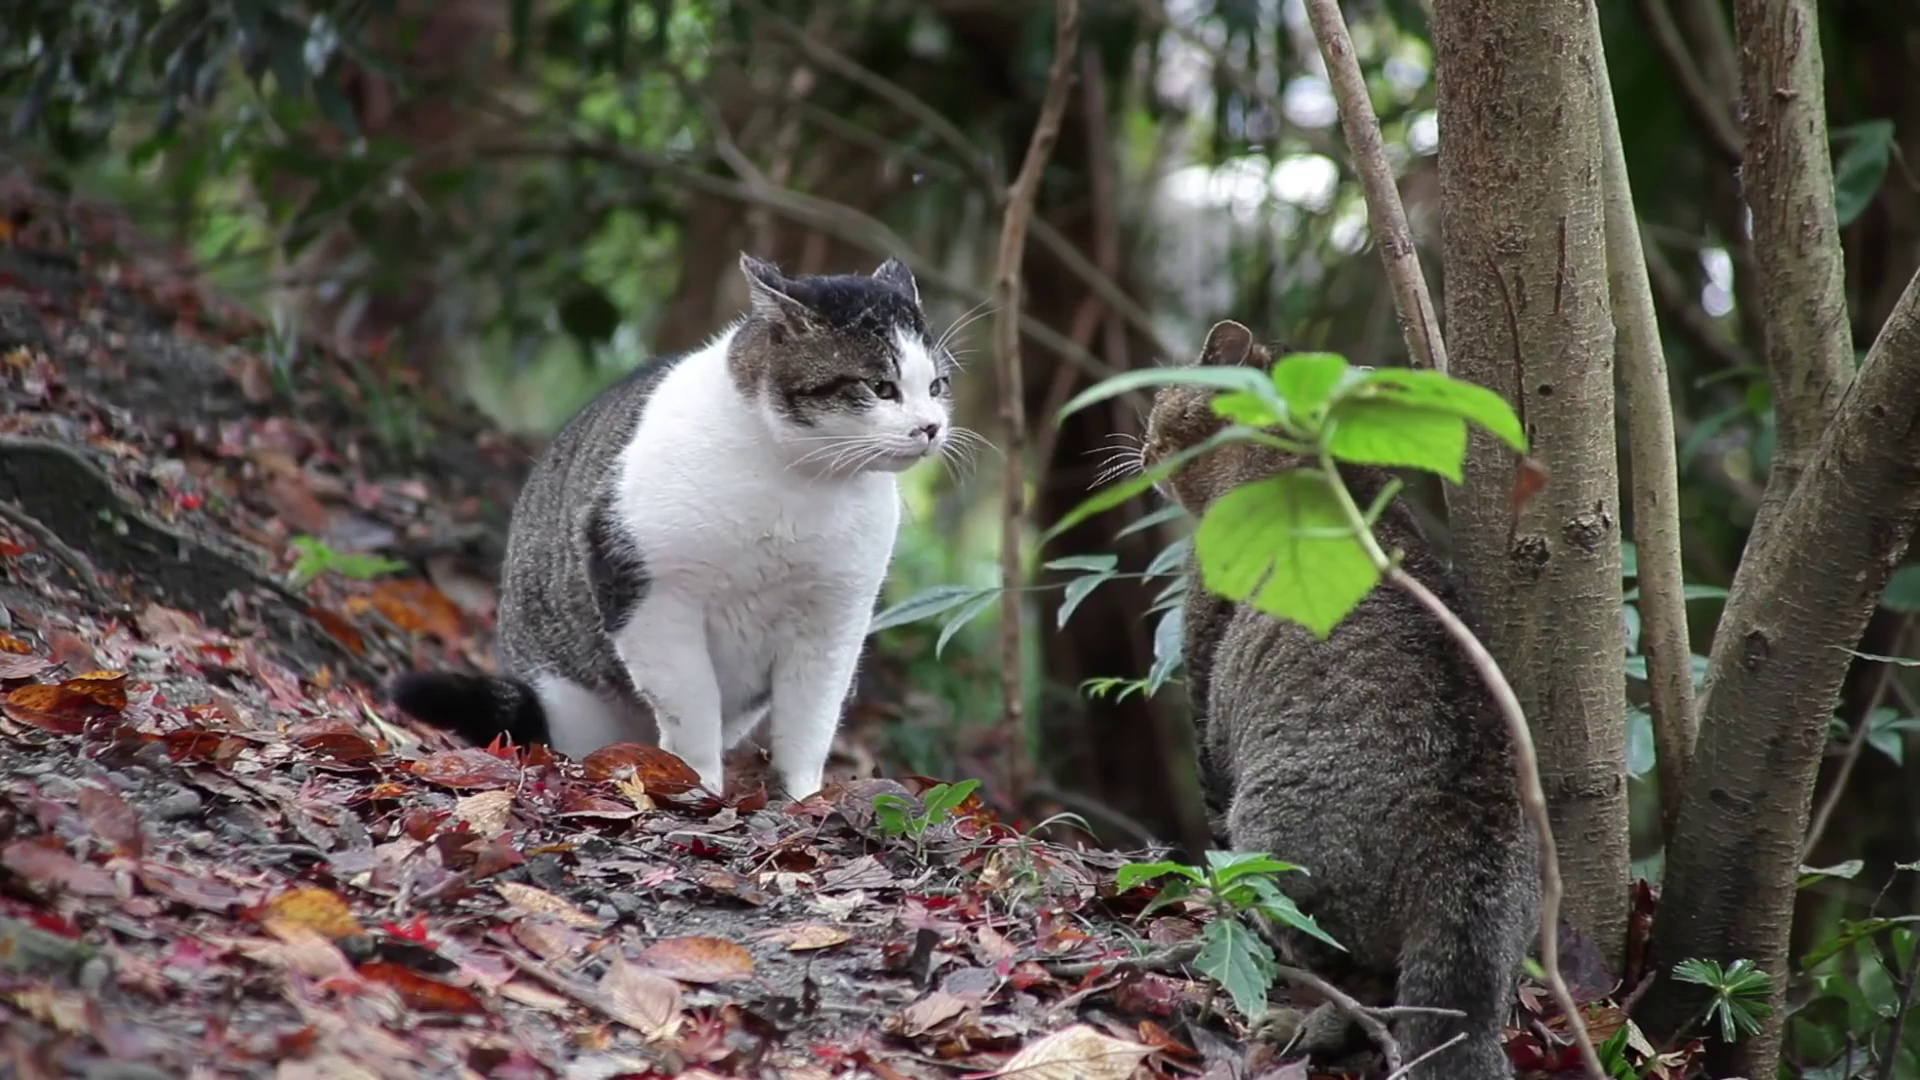black-white: (385, 251, 951, 806)
pure black: (1139, 315, 1538, 1080)
